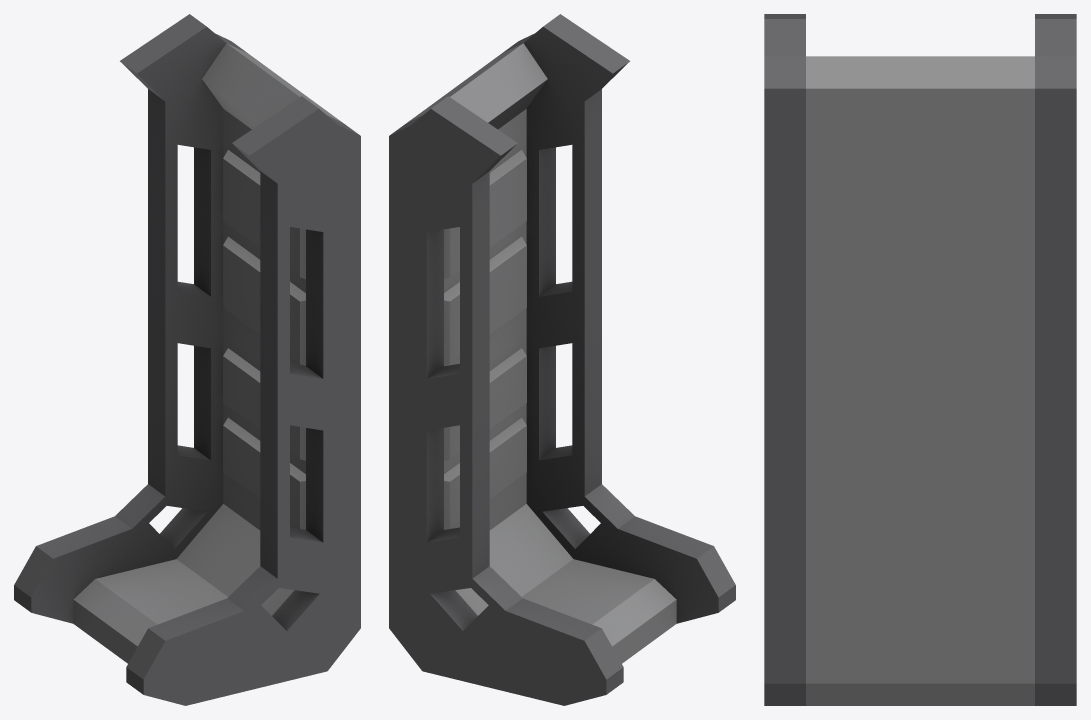
File: Half Wall 2.fbx
The picture shows the model from 3 angles, left to right: view 1: azimuth 30°, elevation 25°; view 2: azimuth 150°, elevation 25°; view 3: azimuth 270°, elevation 25°; orthographic projection. The views are drawn at different scales.
Parts seen in each view (by area): view 1: Half Wall Model - High Res02; view 2: Half Wall Model - High Res02; view 3: Half Wall Model - High Res02.
Boxes of the visible parts, x1=… form: Half Wall Model - High Res02: x1=14, y1=14, x2=360, y2=705; Half Wall Model - High Res02: x1=389, y1=14, x2=735, y2=705; Half Wall Model - High Res02: x1=764, y1=14, x2=1076, y2=705.
Bounding box in the file's own units: 116 × 289 × 120.
